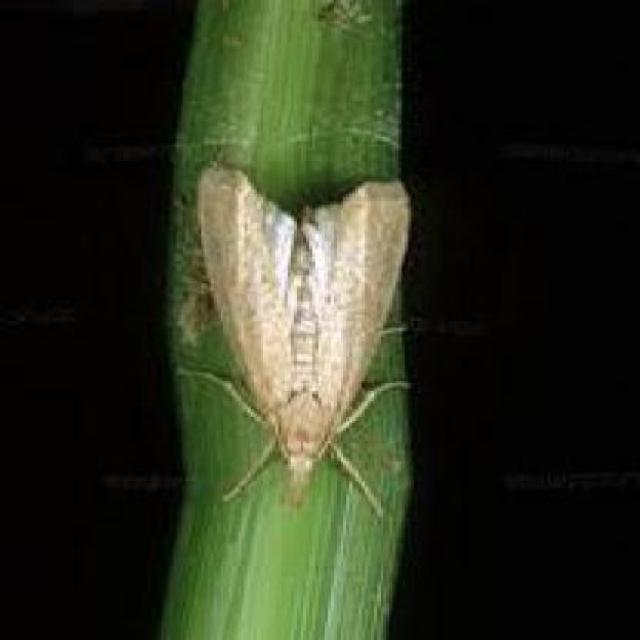stem-borer: (184, 161, 398, 496)
